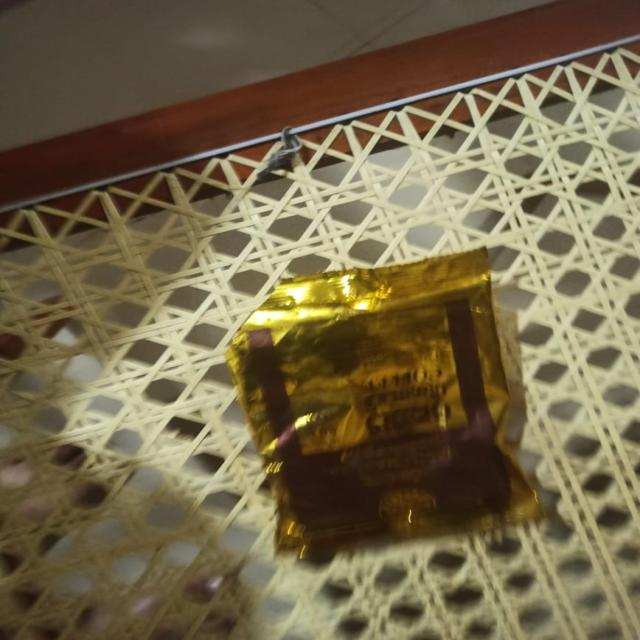Harischandra Coffee: (204, 273, 440, 448)
